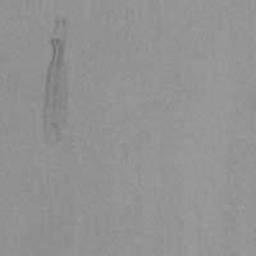Water spot: (41, 15, 70, 147)
